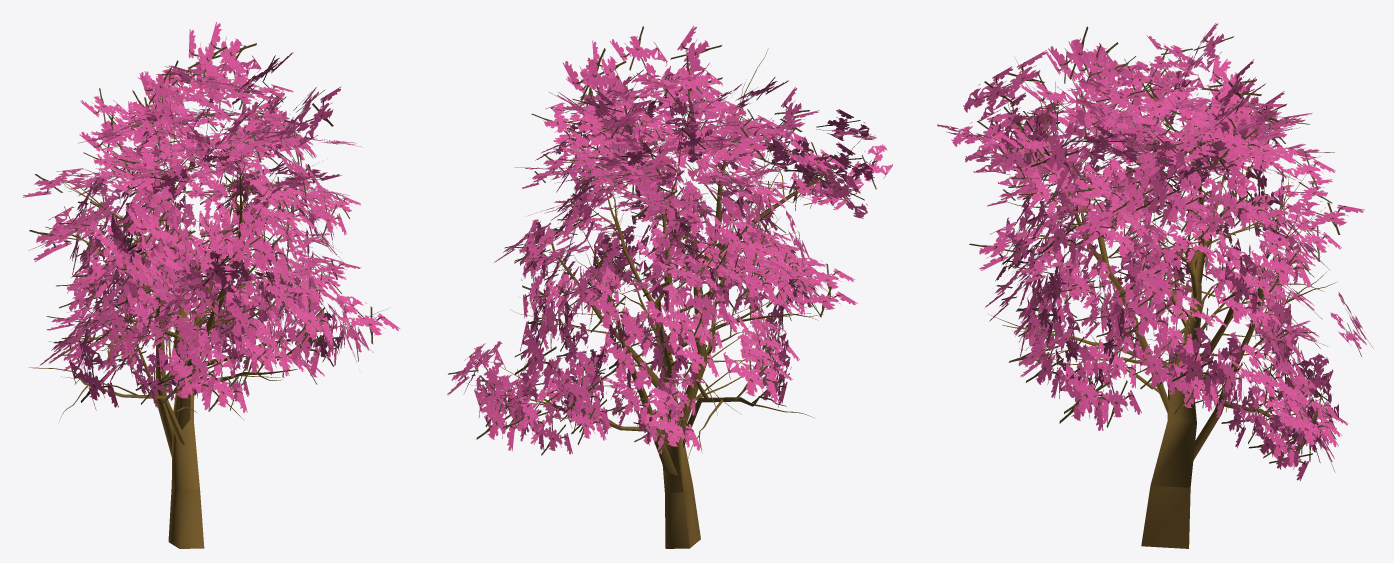
Rendered from guaya_modelo2.fbx.
3 renders of one model, left to right at view 1: azimuth 30°, elevation 25°; view 2: azimuth 150°, elevation 25°; view 3: azimuth 270°, elevation 25°, orthographic. The views are drawn at different scales.
Visible parts, largest first — view 1: tronco, polySurface670, polySurface765, polySurface638, polySurface614, polySurface762, polySurface737, polySurface617, polySurface597, polySurface616, polySurface694, polySurface750 (+46 smaller); view 2: tronco, polySurface584, polySurface386, polySurface660, polySurface598, polySurface401, polySurface718, polySurface647, polySurface590, polySurface735, polySurface611, polySurface731 (+32 smaller); view 3: tronco, polySurface606, polySurface741, polySurface704, polySurface749, polySurface585, polySurface677, polySurface623, polySurface656, polySurface603, polySurface620, polySurface722 (+69 smaller).
Boxes of the visible parts, x1,y1,x2,y2 form: tronco: [29, 85, 390, 548]; polySurface670: [239, 201, 288, 278]; polySurface765: [112, 245, 160, 319]; polySurface638: [277, 299, 324, 376]; polySurface614: [166, 334, 215, 410]; polySurface762: [126, 208, 189, 271]; polySurface737: [188, 29, 226, 106]; polySurface617: [178, 329, 222, 397]; polySurface597: [69, 343, 118, 407]; polySurface616: [200, 349, 247, 412]; polySurface694: [114, 185, 173, 251]; polySurface750: [203, 22, 256, 98]; tronco: [459, 48, 864, 548]; polySurface584: [514, 307, 558, 391]; polySurface386: [639, 387, 702, 452]; polySurface660: [678, 257, 730, 336]; polySurface598: [723, 334, 778, 403]; polySurface401: [560, 350, 601, 419]; polySurface718: [563, 48, 627, 117]; polySurface647: [585, 265, 630, 335]; polySurface590: [476, 375, 517, 451]; polySurface735: [703, 127, 781, 161]; polySurface611: [601, 316, 645, 390]; polySurface731: [660, 55, 723, 113]; tronco: [988, 56, 1337, 548]; polySurface606: [1064, 345, 1110, 424]; polySurface741: [1030, 109, 1086, 191]; polySurface704: [1206, 99, 1263, 167]; polySurface749: [1132, 83, 1209, 131]; polySurface585: [1273, 384, 1338, 452]; polySurface677: [1251, 228, 1312, 292]; polySurface623: [1123, 267, 1169, 347]; polySurface656: [1138, 248, 1184, 309]; polySurface603: [1058, 346, 1103, 430]; polySurface620: [1172, 327, 1213, 396]; polySurface722: [1135, 152, 1186, 228].
Bounding box in the file's own units: 1830 × 2434 × 1913.
Materials: 2 (1 with a texture image).
